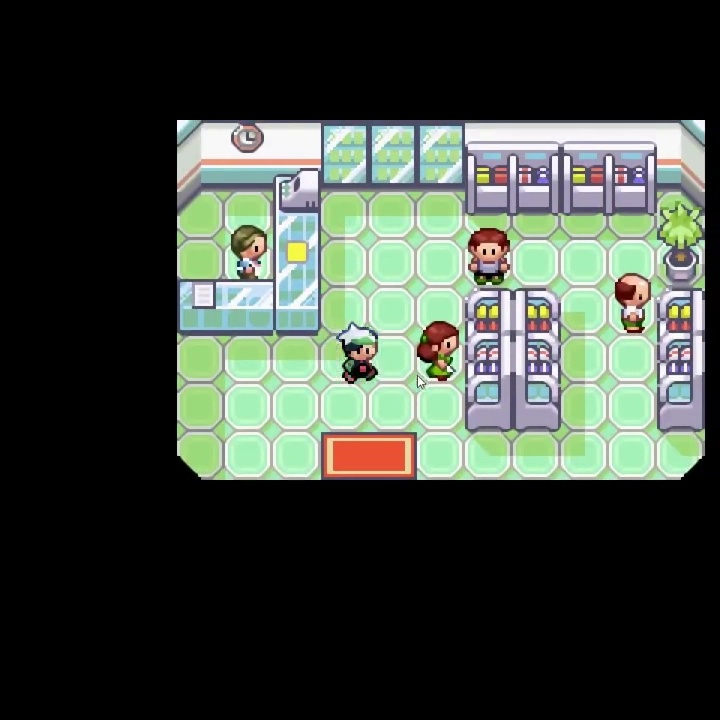exit: (318, 429, 418, 534)
npc: (415, 318, 463, 385), (463, 224, 513, 287), (336, 321, 382, 386), (611, 269, 655, 335), (228, 222, 274, 280)
